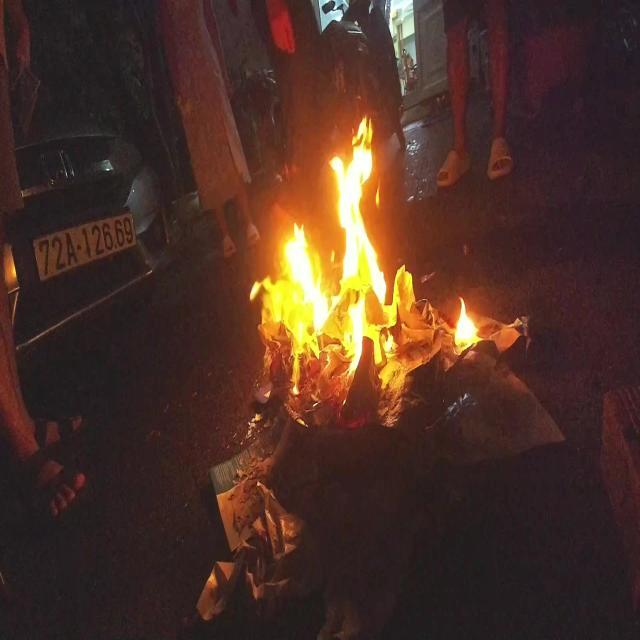Fire: (250, 113, 482, 402)
